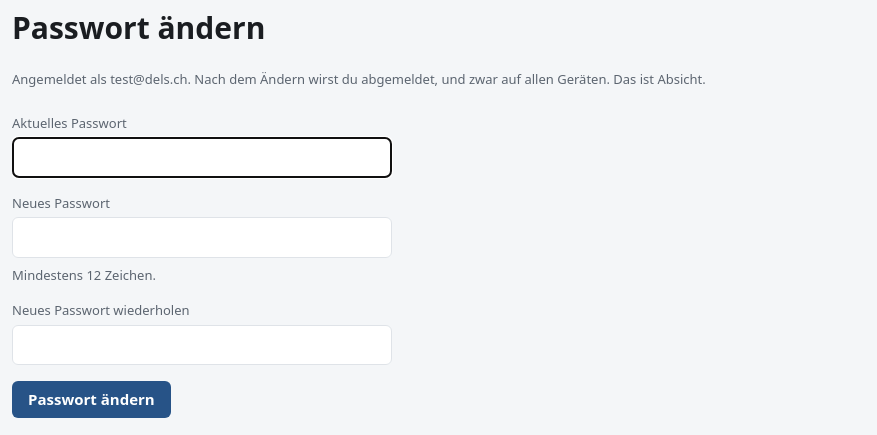
Scenario: Erfolgsfall › zeigt die Erfolgsmeldung und meldet NICHT von selbst ab
Type "altes-passwort-lang" into the password field labelled "Aktuelles Passwort" at (202, 157), box [12,137,392,178]
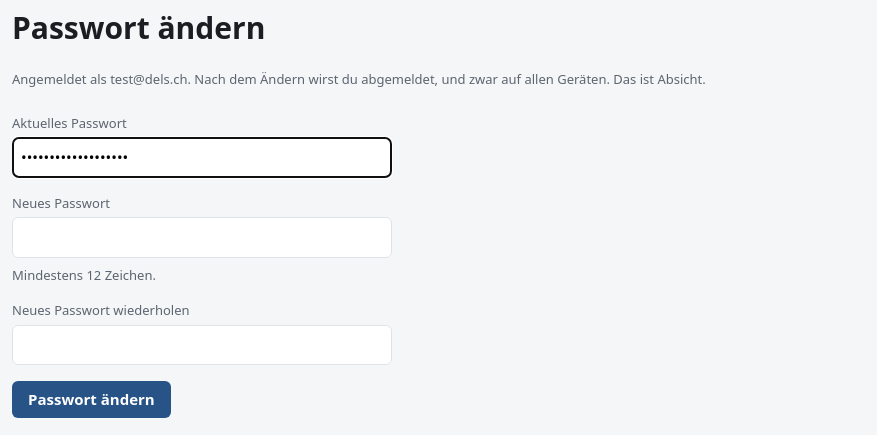
Type "neues-passwort-lang" into the password field labelled "Neues Passwort" at (202, 237), box [12,217,392,258]
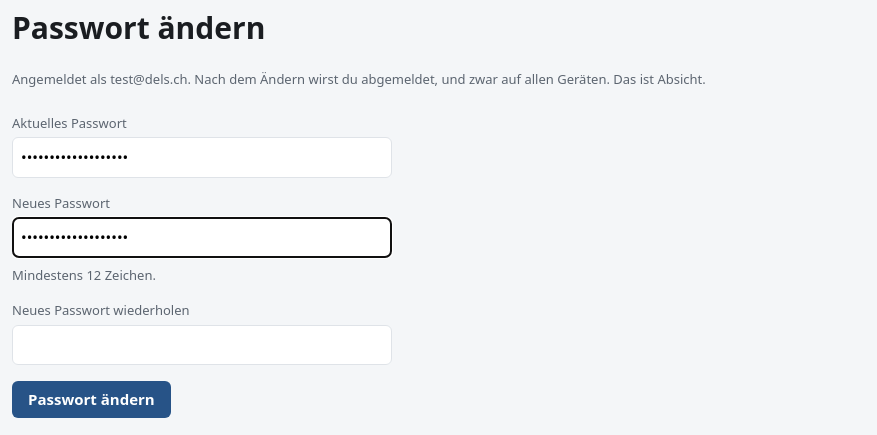
Type "neues-passwort-lang" into the password field labelled "Neues Passwort wiederholen" at (202, 345), box [12,325,392,365]
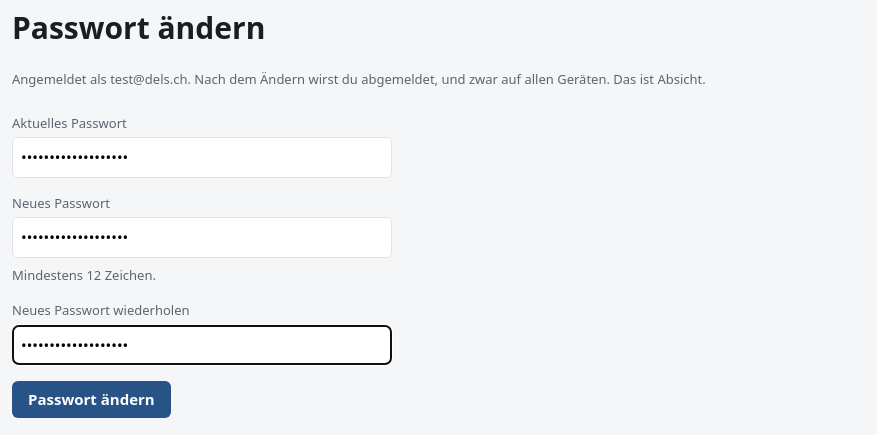
Click the button "Passwort ändern" at (91, 399), box [12,381,171,418]
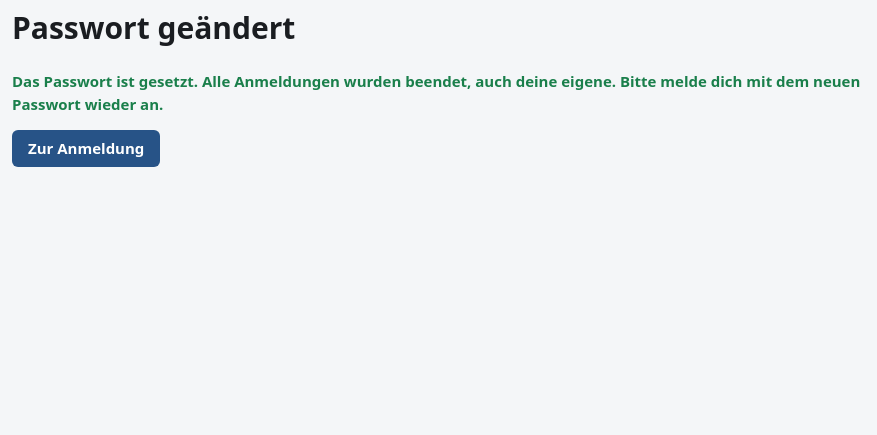
Check: the text "Das Passwort ist gesetzt" is shown, box [12,71,860,114]
